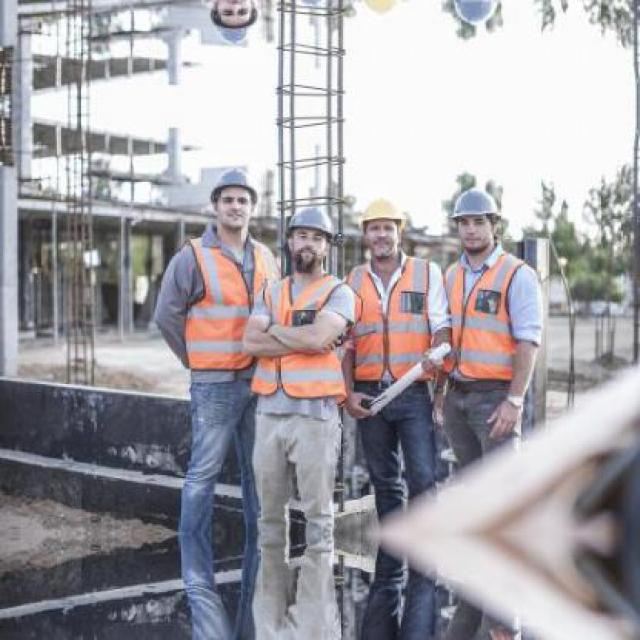helmet: (444, 180, 504, 256), (206, 156, 260, 236), (281, 197, 337, 270), (354, 188, 409, 262), (205, 0, 260, 57), (443, 0, 504, 32), (354, 0, 411, 26), (281, 0, 338, 15)
